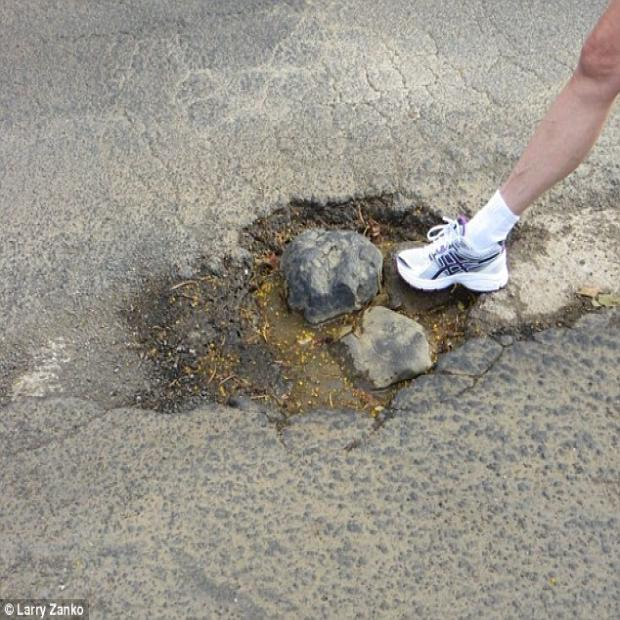lubang: (136, 194, 474, 416)
